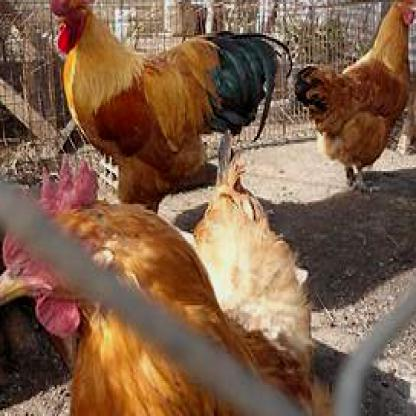chicken: (1, 130, 328, 414), (48, 0, 292, 191), (291, 0, 415, 196)
